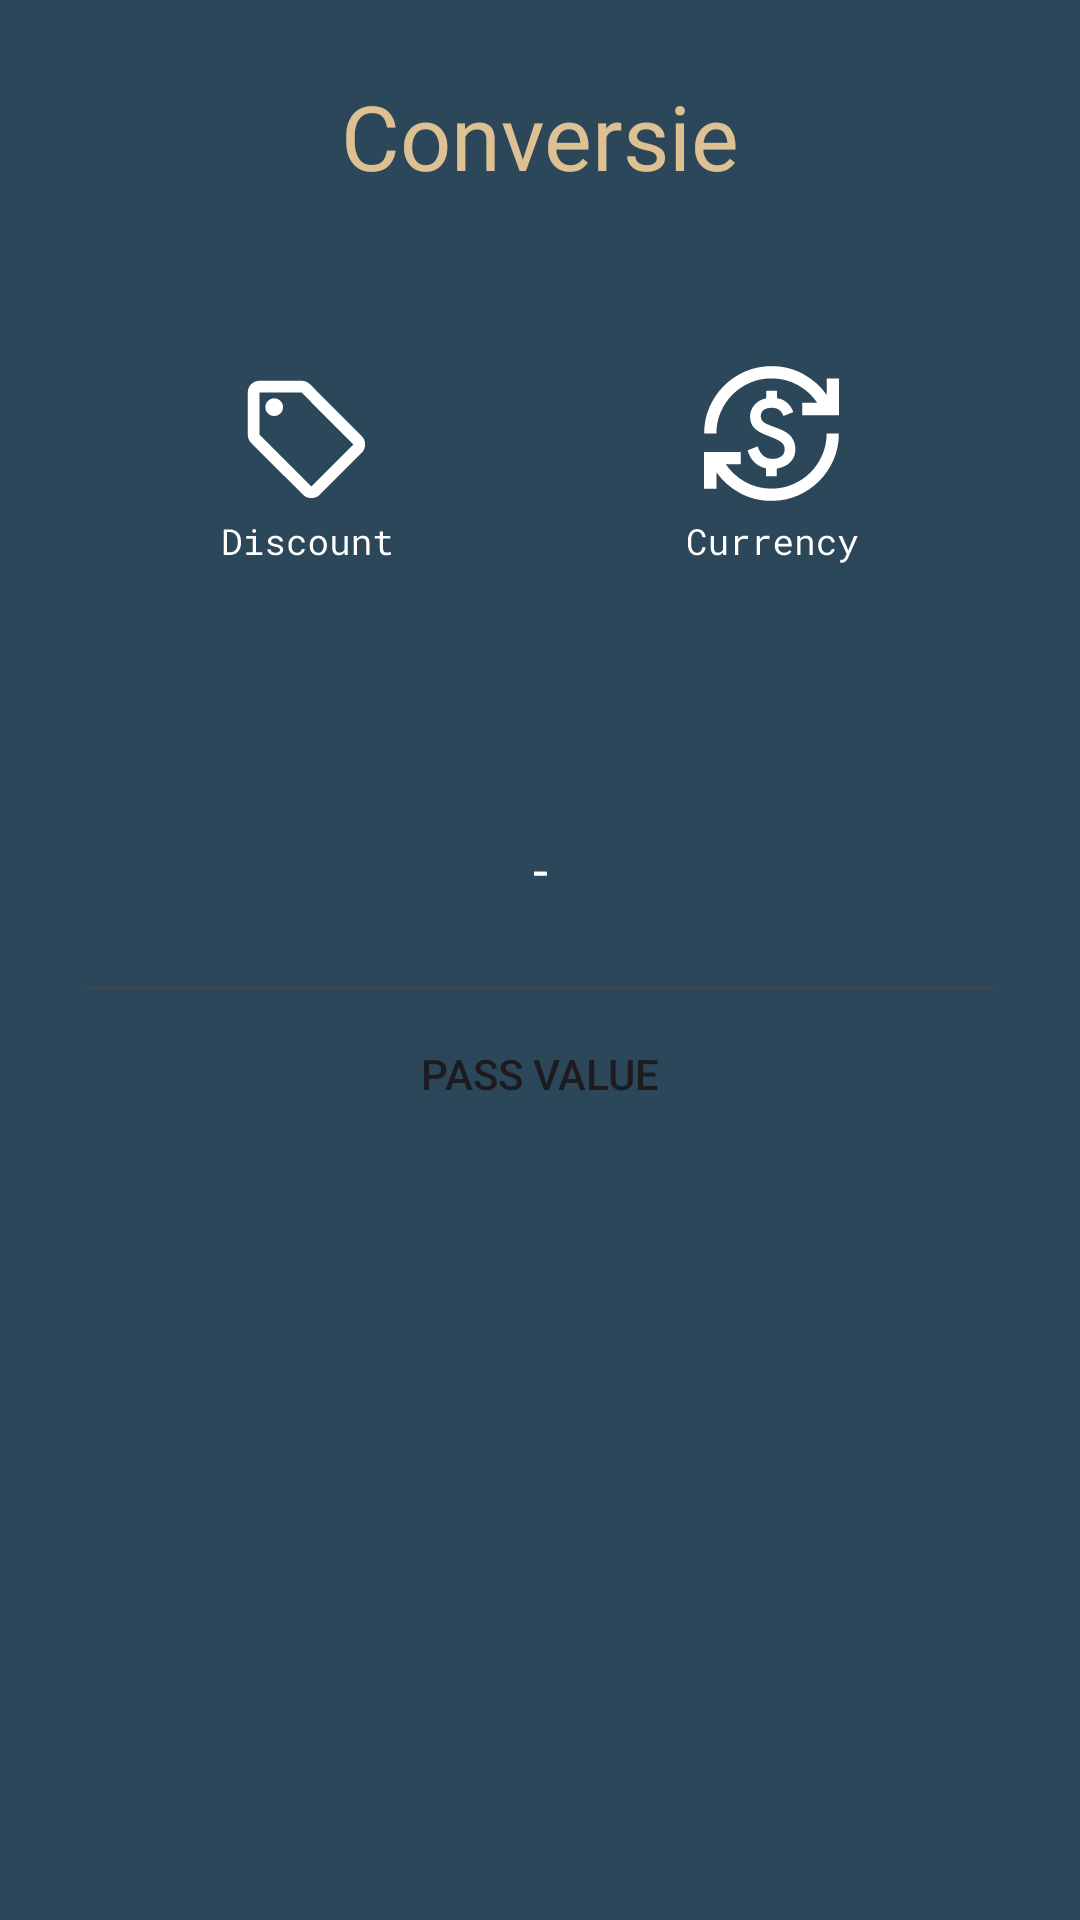

Screen size 1080 x 1920. Icon name, then its box in pixels as {"left": x1, "top": y1, "right": x2, "bottom": y2}:
dollar: {"left": 688, "top": 366, "right": 858, "bottom": 563}
